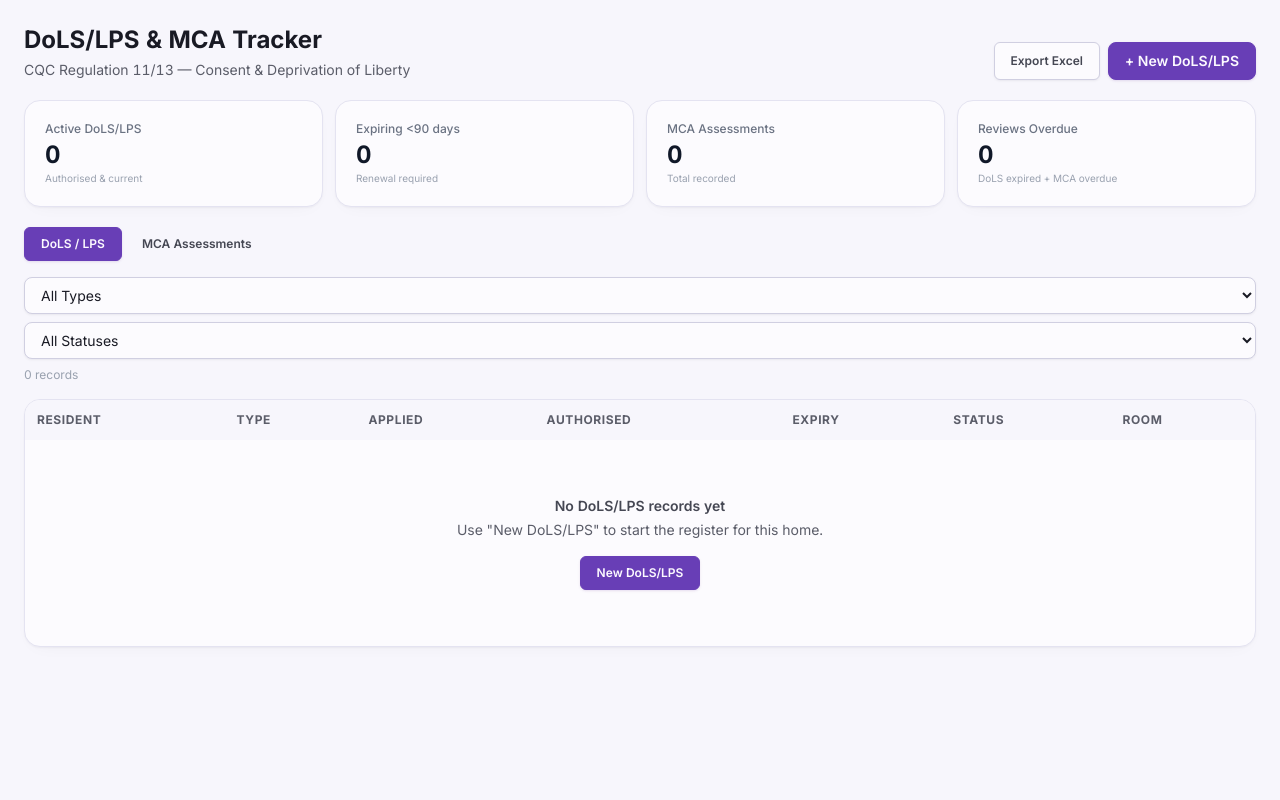
Test: DolsTracker › MCA view shows empty state when no MCA assessments exist
Click the button "MCA Assessments" at x=197, y=244, box [126,227,268,261]
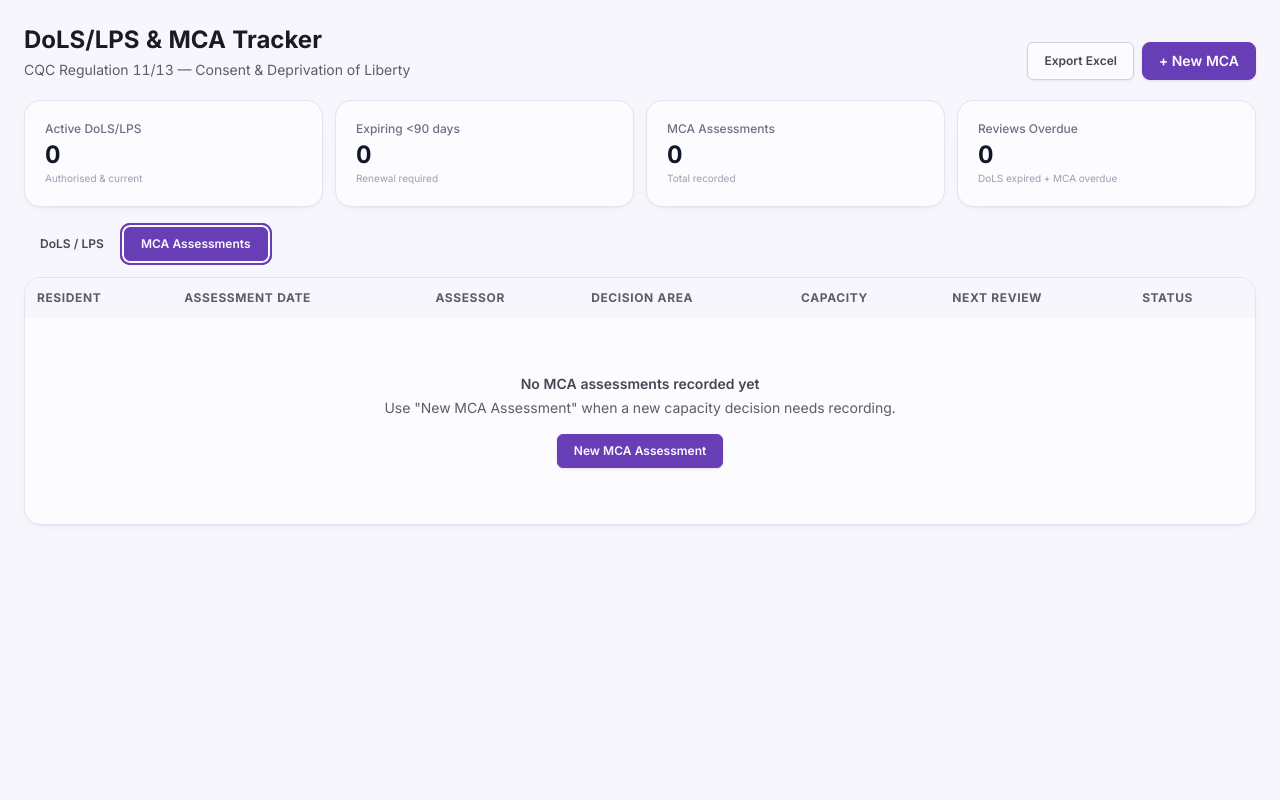
Expected: the text "No MCA assessments recorded yet" is shown, [521,375,759,392]
Expected: the button "New MCA Assessment" is shown, [557,434,723,468]
